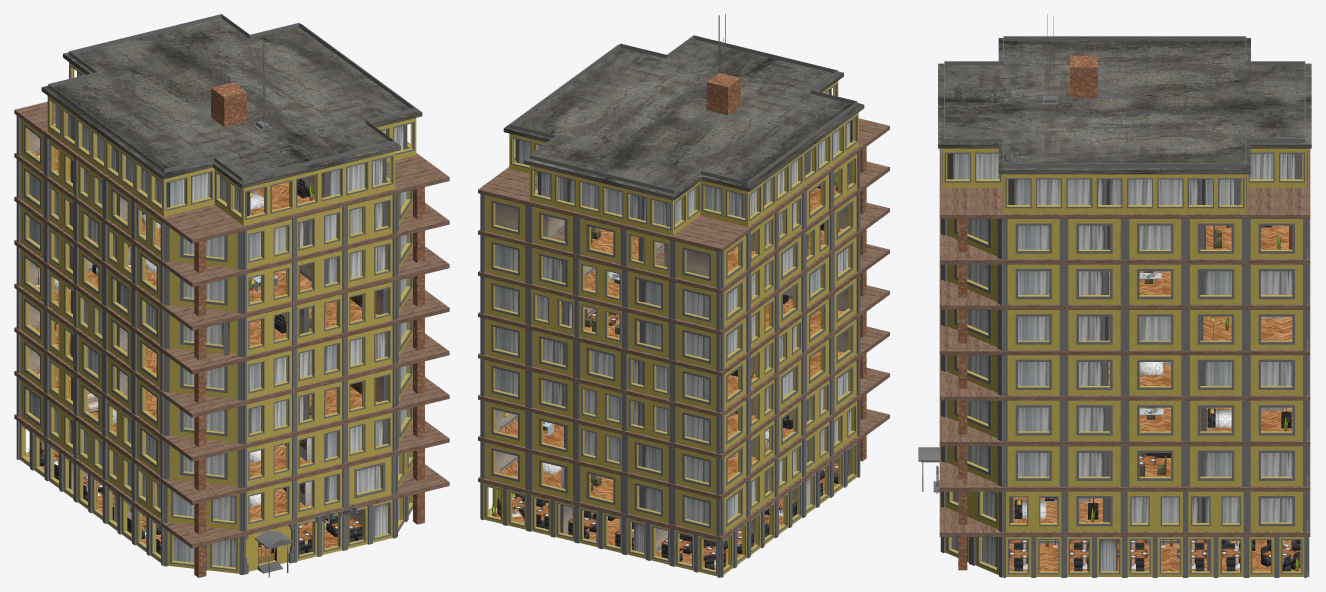
The model's file is Building_9stores_House.obj.
3 views of the same model, side by side, from view 1: azimuth 30°, elevation 25°; view 2: azimuth 150°, elevation 25°; view 3: azimuth 270°, elevation 25° (orthographic). The views are drawn at different scales.
Visible parts, largest first — view 1: Building_9stores_House; view 2: Building_9stores_House; view 3: Building_9stores_House.
Boxes of the visible parts, x1=… form: Building_9stores_House: x1=14, y1=14, x2=449, y2=577; Building_9stores_House: x1=478, y1=14, x2=889, y2=577; Building_9stores_House: x1=918, y1=14, x2=1311, y2=577.
Size of the model in its own units: 6.76 by 11.8 by 8.5.
15 materials, 15 textured.
